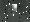person: (9, 6, 17, 16)
